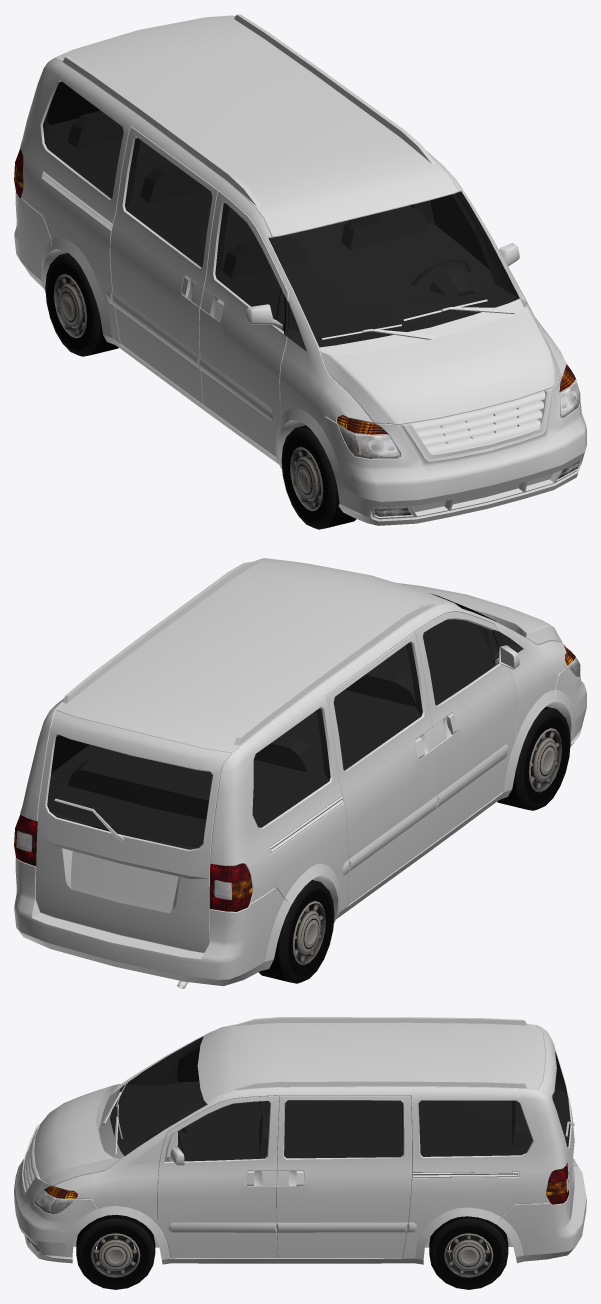
File: generic-minivan.glb
The picture shows the model from 3 angles, top to bottom: view 1: azimuth 30°, elevation 25°; view 2: azimuth 150°, elevation 25°; view 3: azimuth 270°, elevation 25°; orthographic projection. The views are drawn at different scales.
Visible parts, largest first — view 1: minivan body_Body_0, minivan body_Glass_0, Wheel_D002_Wheel_0, Wheel_D003_Wheel_0, minivan body_Optics_0; view 2: minivan body_Body_0, minivan body_Glass_0, Wheel_D003_Wheel_0, Wheel_D002_Wheel_0, minivan body_Optics_0; view 3: minivan body_Body_0, minivan body_Glass_0, Wheel_D_Wheel_0, Wheel_D001_Wheel_0, minivan body_Optics_0.
Boxes of the visible parts, bbox=[...] form: minivan body_Body_0: bbox=[14, 14, 586, 525]; minivan body_Glass_0: bbox=[43, 81, 519, 351]; Wheel_D002_Wheel_0: bbox=[281, 425, 356, 529]; Wheel_D003_Wheel_0: bbox=[45, 253, 118, 356]; minivan body_Optics_0: bbox=[14, 148, 580, 516]; minivan body_Body_0: bbox=[14, 558, 586, 988]; minivan body_Glass_0: bbox=[47, 593, 523, 849]; Wheel_D003_Wheel_0: bbox=[258, 880, 334, 983]; Wheel_D002_Wheel_0: bbox=[497, 706, 570, 810]; minivan body_Optics_0: bbox=[14, 644, 580, 911]; minivan body_Body_0: bbox=[14, 1017, 586, 1264]; minivan body_Glass_0: bbox=[110, 1036, 570, 1161]; Wheel_D_Wheel_0: bbox=[76, 1215, 155, 1289]; Wheel_D001_Wheel_0: bbox=[429, 1216, 508, 1289]; minivan body_Optics_0: bbox=[26, 1162, 568, 1251].
Size of the model in its own units: 1.87 by 1.76 by 4.61.
4 materials, 2 textured.
